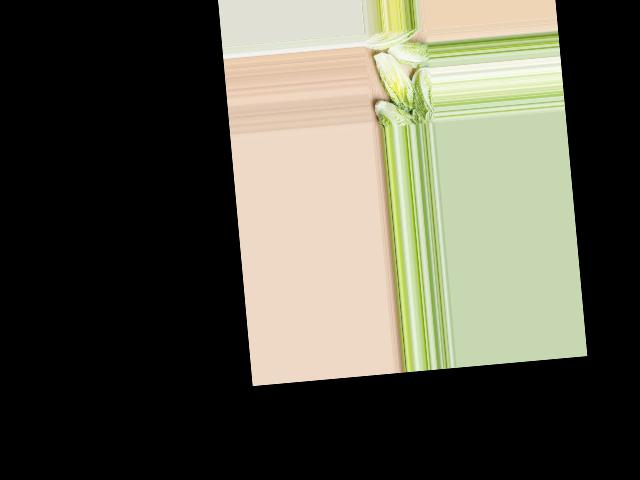lettuce: (364, 27, 421, 52)
